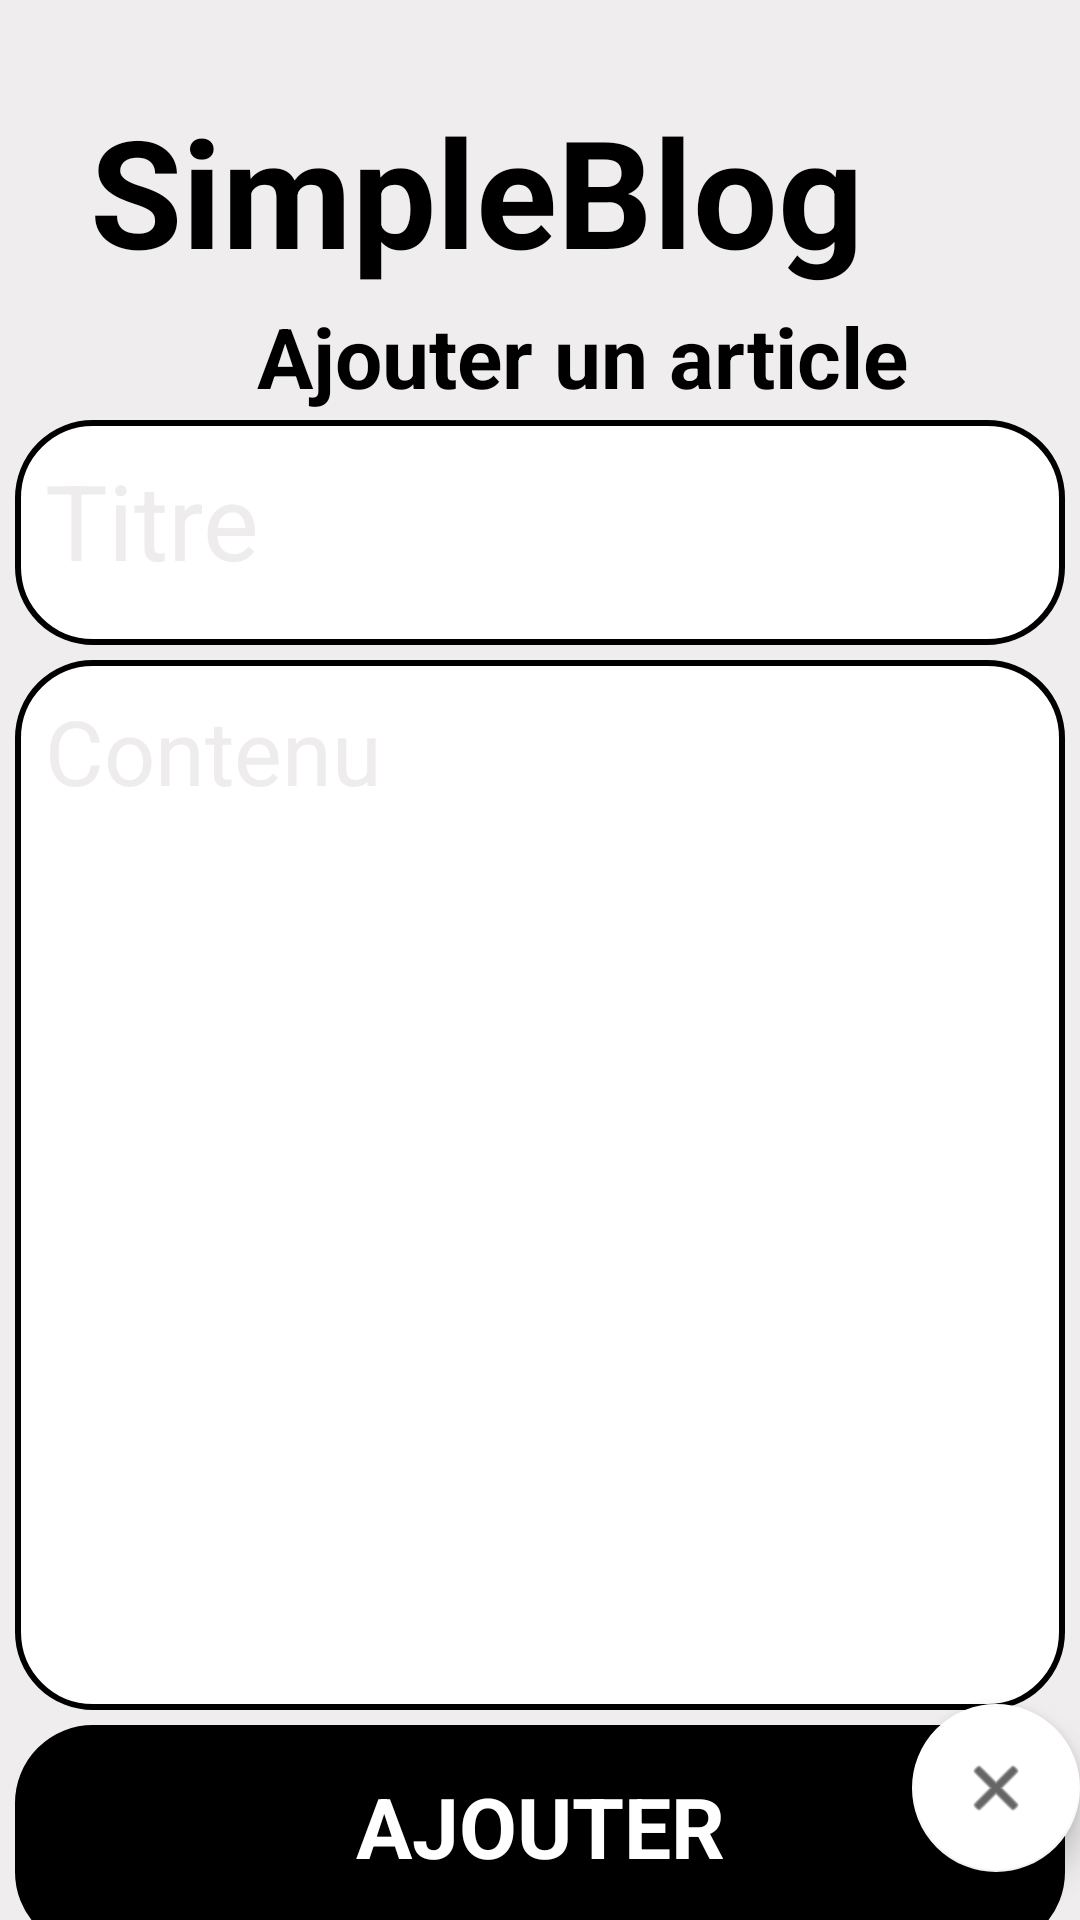

Point at icon controls on the screen. Image size 1080 × 1920, points as (x=x, y=y).
close clear cancel: (x=996, y=1788)
